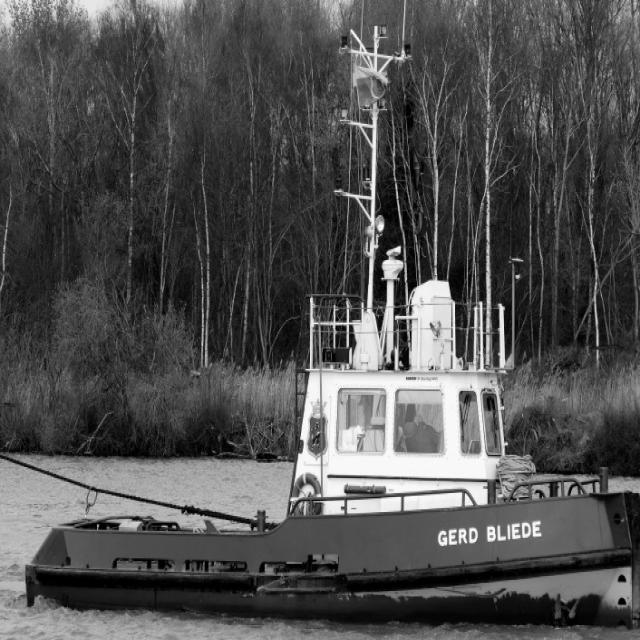tugboat: (27, 23, 640, 638)
